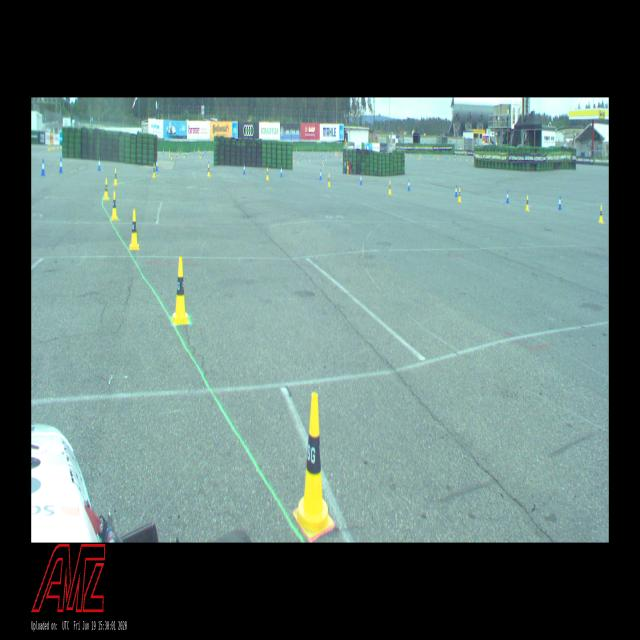blue_cone: (557, 196, 562, 210), (41, 159, 45, 176), (59, 158, 63, 172), (97, 157, 101, 171), (454, 184, 458, 198), (506, 190, 510, 203), (359, 172, 363, 185), (280, 166, 283, 178), (243, 163, 246, 174), (319, 169, 322, 179), (408, 178, 410, 191)
yellow_cone: (293, 393, 334, 541), (171, 256, 190, 324), (129, 208, 140, 250), (110, 190, 119, 220), (598, 204, 604, 223), (103, 178, 108, 200), (113, 168, 118, 186), (525, 195, 529, 211), (152, 163, 156, 179), (388, 180, 392, 195), (266, 167, 270, 180), (458, 187, 461, 202), (327, 173, 330, 186), (208, 162, 210, 176)
